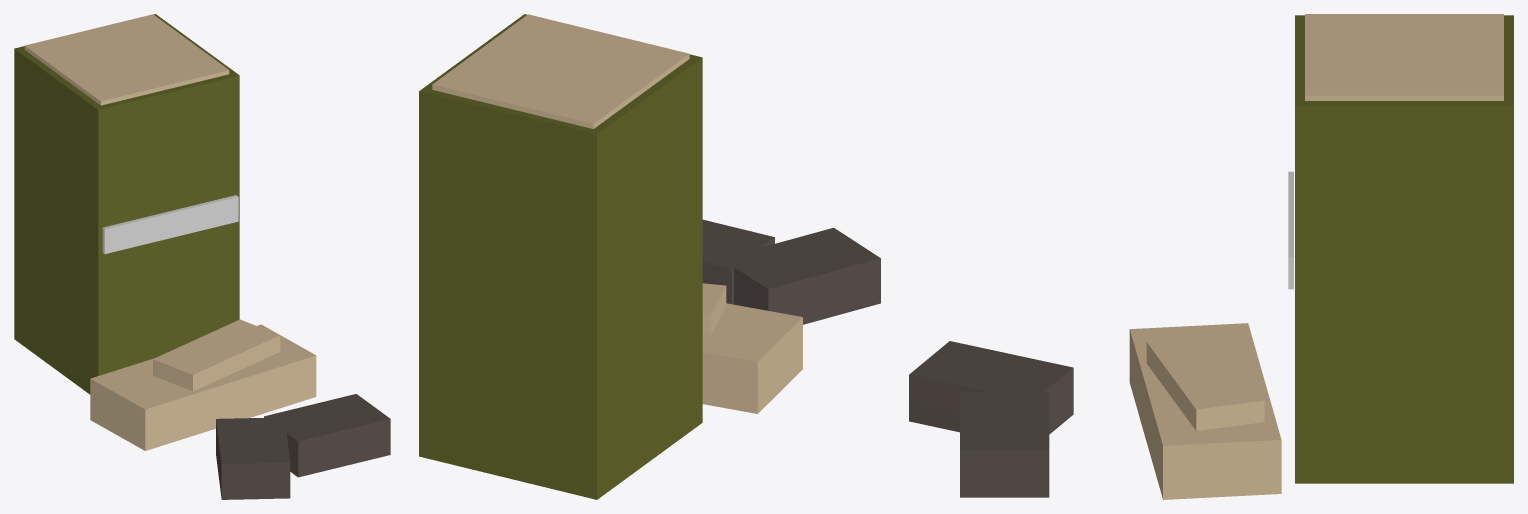
The model's file is SM_HescoCorto1_v1_Geotextil_e1_Danado_LOD1.fbx.
The picture shows the model from 3 angles, left to right: view 1: azimuth 30°, elevation 25°; view 2: azimuth 150°, elevation 25°; view 3: azimuth 270°, elevation 25°; orthographic projection. The views are drawn at different scales.
Visible parts, largest first — view 1: SM_hesco_piezas_v45_LOD1; view 2: SM_hesco_piezas_v45_LOD1; view 3: SM_hesco_piezas_v45_LOD1.
Boxes of the visible parts, bbox=[...] form: SM_hesco_piezas_v45_LOD1: bbox=[14, 14, 390, 499]; SM_hesco_piezas_v45_LOD1: bbox=[419, 14, 880, 499]; SM_hesco_piezas_v45_LOD1: bbox=[909, 14, 1513, 499].
Bounding box in the file's own units: 1.46 × 2.13 × 3.04.
